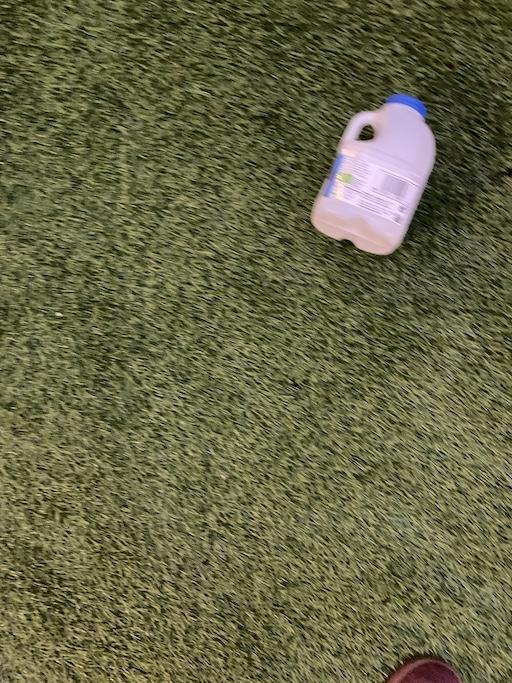Plastik: (303, 91, 441, 262)
